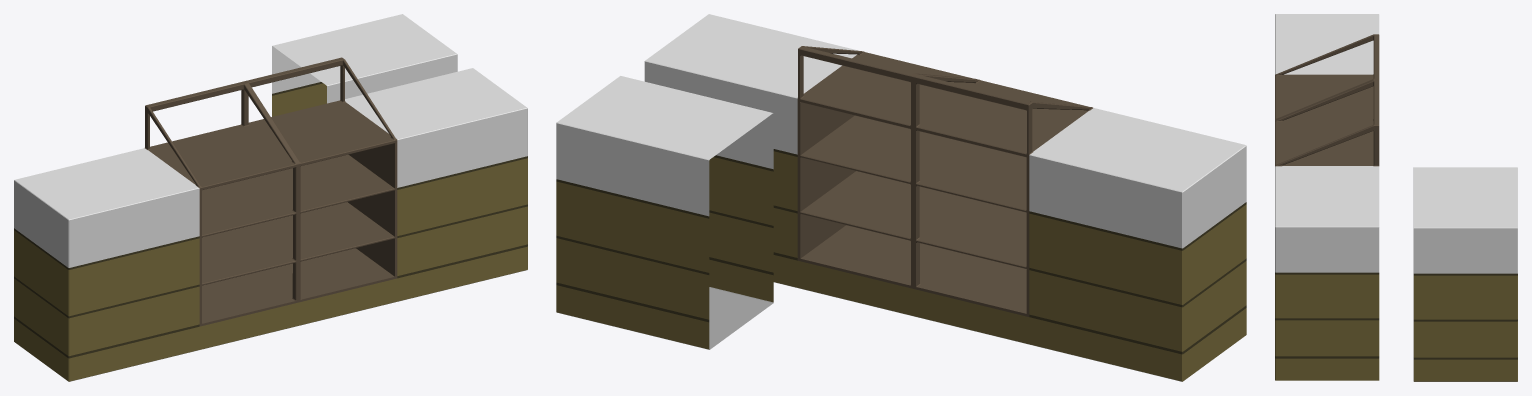
File: bakery counter.fbx
3 renders of one model, left to right at view 1: azimuth 30°, elevation 25°; view 2: azimuth 150°, elevation 25°; view 3: azimuth 270°, elevation 25°, orthographic. The views are drawn at different scales.
Parts seen in each view (by area): view 1: pCube1, pCube2; view 2: pCube1, pCube2; view 3: pCube1, pCube2.
Part boxes in pixels (bbox=[...]): pCube1: bbox=[14, 57, 527, 381]; pCube2: bbox=[272, 14, 457, 116]; pCube1: bbox=[644, 14, 1246, 381]; pCube2: bbox=[556, 76, 773, 349]; pCube1: bbox=[1275, 14, 1379, 380]; pCube2: bbox=[1413, 167, 1517, 381].
Bounding box in the file's own units: 25.35 × 10.74 × 12.14.
